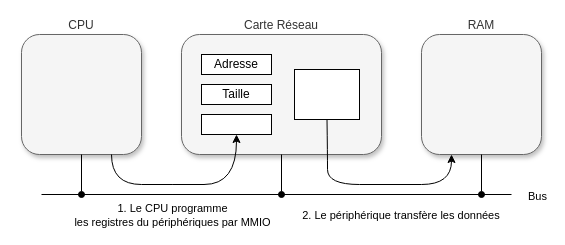
Image size: 565x245. Some labels were removed from this diagram. Here are the shapes that lost their labels. From the top down, the centre of each, then its label:
At point (327, 94): "Mémoire tampon".
At point (236, 124): "Commande".
